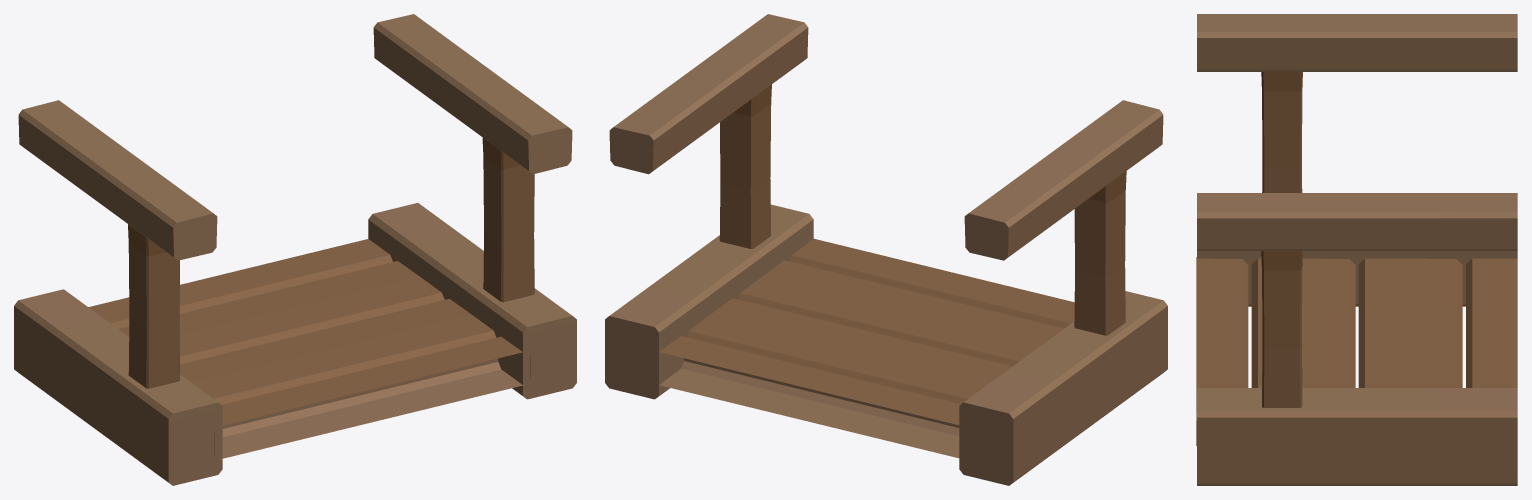
File: obj_BridgeMid.fbx
The picture shows the model from 3 angles, left to right: view 1: azimuth 30°, elevation 25°; view 2: azimuth 150°, elevation 25°; view 3: azimuth 270°, elevation 25°; orthographic projection. The views are drawn at different scales.
Visible parts, largest first — view 1: obj_BridgeMid; view 2: obj_BridgeMid; view 3: obj_BridgeMid.
Part boxes in pixels (<box>): obj_BridgeMid: <box>14,14,576,485</box>; obj_BridgeMid: <box>605,14,1167,485</box>; obj_BridgeMid: <box>1196,14,1517,485</box>.
Bounding box in the file's own units: 577 × 355 × 380.
